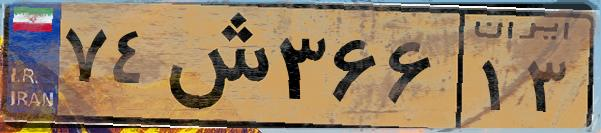1: (475, 38, 525, 113)
3: (270, 28, 330, 110), (525, 38, 570, 115)
4: (110, 28, 158, 98)
6: (385, 28, 445, 110), (330, 28, 385, 110)
7: (57, 26, 110, 100)
ش: (158, 12, 270, 120)
